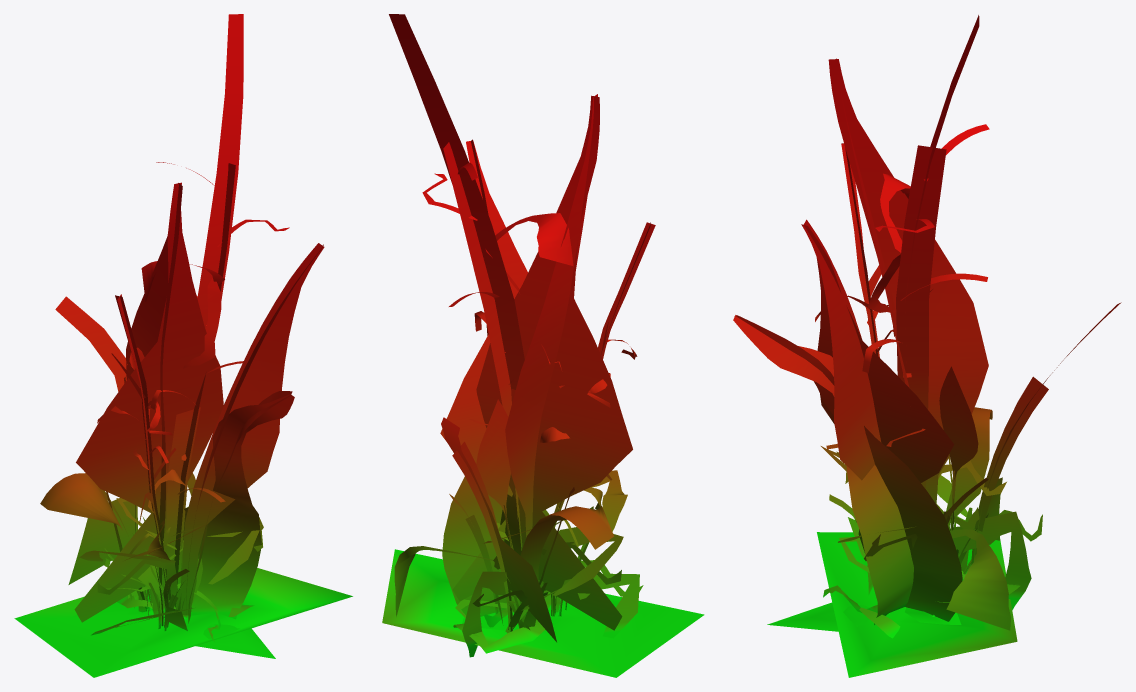
Rendered from tbbqejqr_Var1_LOD0.fbx.
The picture shows the model from 3 angles, left to right: view 1: azimuth 30°, elevation 25°; view 2: azimuth 150°, elevation 25°; view 3: azimuth 270°, elevation 25°; orthographic projection. The views are drawn at different scales.
Parts seen in each view (by area): view 1: _dd3d_Var1_LOD0; view 2: _dd3d_Var1_LOD0; view 3: _dd3d_Var1_LOD0.
Part boxes in pixels (x1,y1,x2,y2): _dd3d_Var1_LOD0: (14, 14, 352, 677); _dd3d_Var1_LOD0: (382, 14, 704, 677); _dd3d_Var1_LOD0: (733, 15, 1121, 677).
Bounding box in the file's own units: 17.04 × 34.39 × 18.57.
